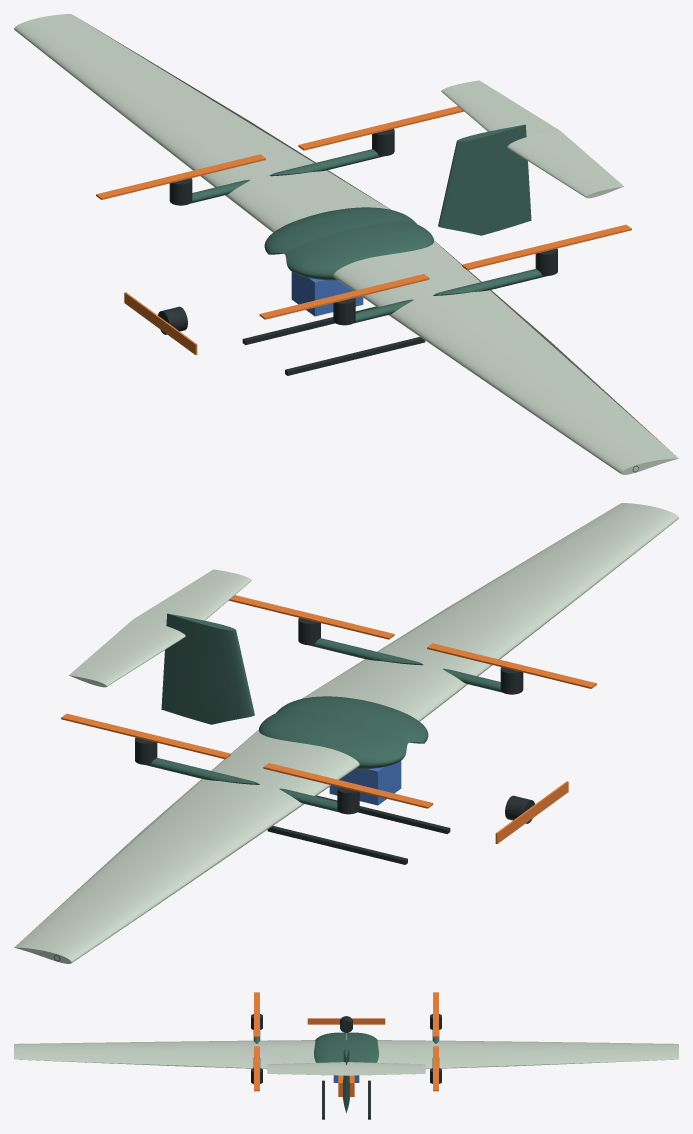
Rendered from surface_tools-06-internal.glb.
3 renders of one model, top to bottom at view 1: azimuth 30°, elevation 25°; view 2: azimuth 150°, elevation 25°; view 3: azimuth 270°, elevation 25°, orthographic. The views are drawn at different scales.
Visible parts, largest first — view 1: wing-1, wing1, fin, root_fairing-1, tail-1, root_fairing1, tail1, payload, boom_fairing-1, boom_fairing1, prop_-1_200.0, prop_-1_700.0 (+5 smaller); view 2: wing1, wing-1, fin, root_fairing1, tail1, root_fairing-1, tail-1, payload, boom_fairing1, boom_fairing-1, prop_1_200.0, prop_1_700.0 (+5 smaller); view 3: wing-1, wing1, tail-1, tail1, root_fairing-1, root_fairing1, cruise_prop, fin, prop_-1_200.0, prop_-1_700.0, prop_1_200.0, prop_1_700.0 (+1 smaller).
Boxes of the visible parts, x1,y1,x2,y2 form: wing-1: (333,240,678,474); wing1: (14,14,390,232); fin: (438,124,531,235); root_fairing-1: (285,221,433,280); tail-1: (507,130,623,198); root_fairing1: (264,207,416,254); tail1: (441,80,559,136); payload: (291,272,363,316); boom_fairing-1: (354,269,546,323); boom_fairing1: (190,149,383,203); prop_-1_200.0: (259,274,429,319); prop_-1_700.0: (462,224,631,270); wing1: (14,729,359,963); wing-1: (302,503,678,721); fin: (161,613,254,724); root_fairing1: (259,710,407,769); tail1: (69,619,185,687); root_fairing-1: (276,696,428,743); tail-1: (133,569,251,625); payload: (329,761,401,805); boom_fairing1: (146,758,338,812); boom_fairing-1: (309,638,502,692); prop_1_200.0: (263,763,433,808); prop_1_700.0: (61,713,230,759); wing-1: (14,1040,315,1069); wing1: (377,1040,678,1069); tail-1: (267,1062,346,1075); tail1: (346,1062,425,1075); root_fairing-1: (314,1032,346,1062); root_fairing1: (346,1032,378,1062); cruise_prop: (307,1018,385,1024); fin: (343,1040,349,1112); prop_-1_200.0: (254,992,259,1037); prop_-1_700.0: (254,1046,259,1091); prop_1_200.0: (433,992,438,1037); prop_1_700.0: (433,1046,438,1091).
Bounding box in the file's own units: 989 × 405 × 2600.
